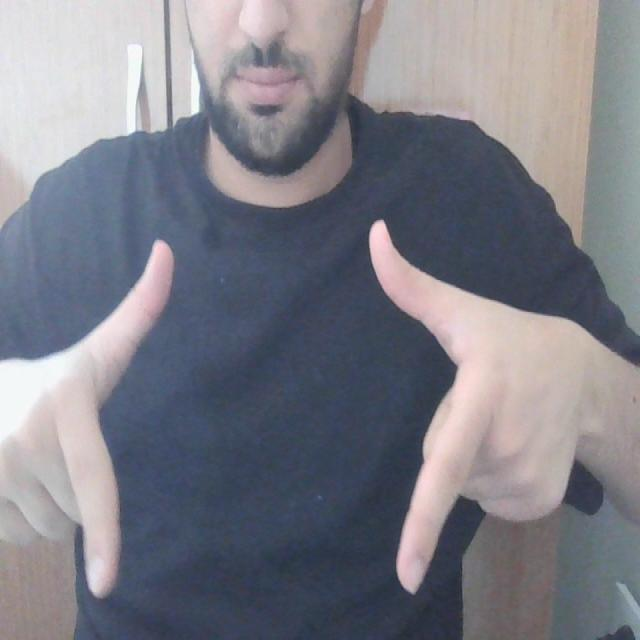Nerede: (44, 217, 498, 598)
